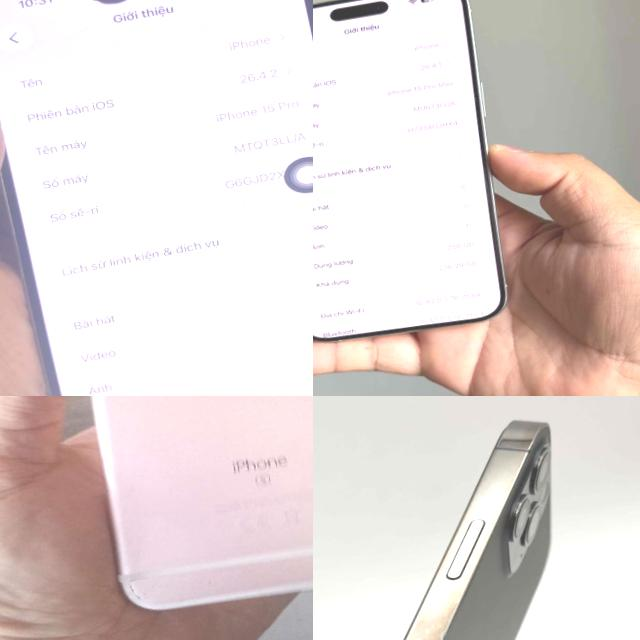gen_12_13: (313, 407, 640, 640)
gen_15: (0, 0, 313, 396), (313, 0, 530, 363)
gen_6: (91, 396, 313, 608)
